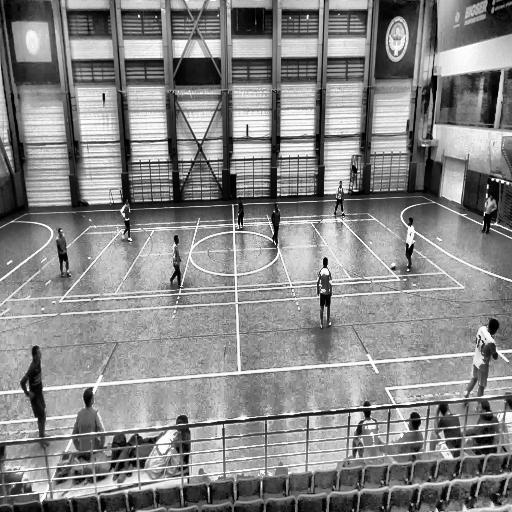ball: (391, 261, 396, 270)
player: (19, 346, 48, 447), (466, 318, 500, 401), (316, 257, 332, 331), (56, 226, 72, 279), (481, 190, 496, 233), (170, 235, 182, 288), (404, 216, 415, 273), (120, 198, 134, 242), (269, 202, 281, 248), (333, 179, 346, 215), (236, 194, 245, 228)
